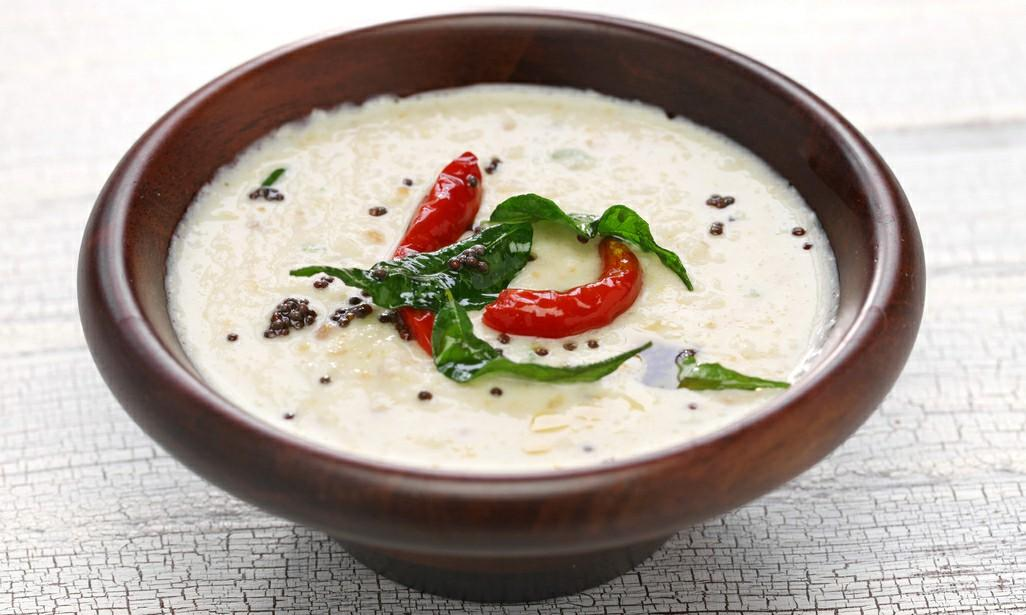CoconutChutney: (169, 83, 832, 473)
